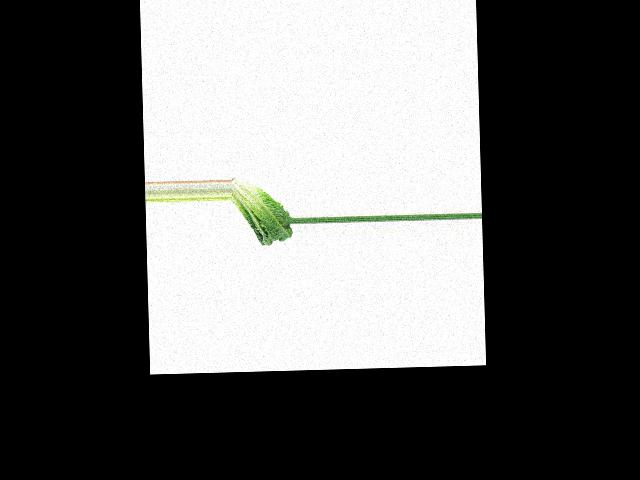lettuce: (230, 175, 292, 247)
